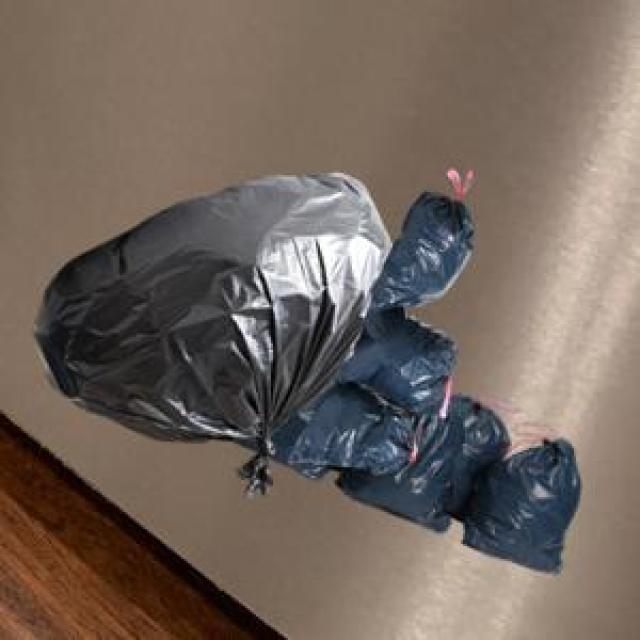waste: (35, 172, 580, 571)
